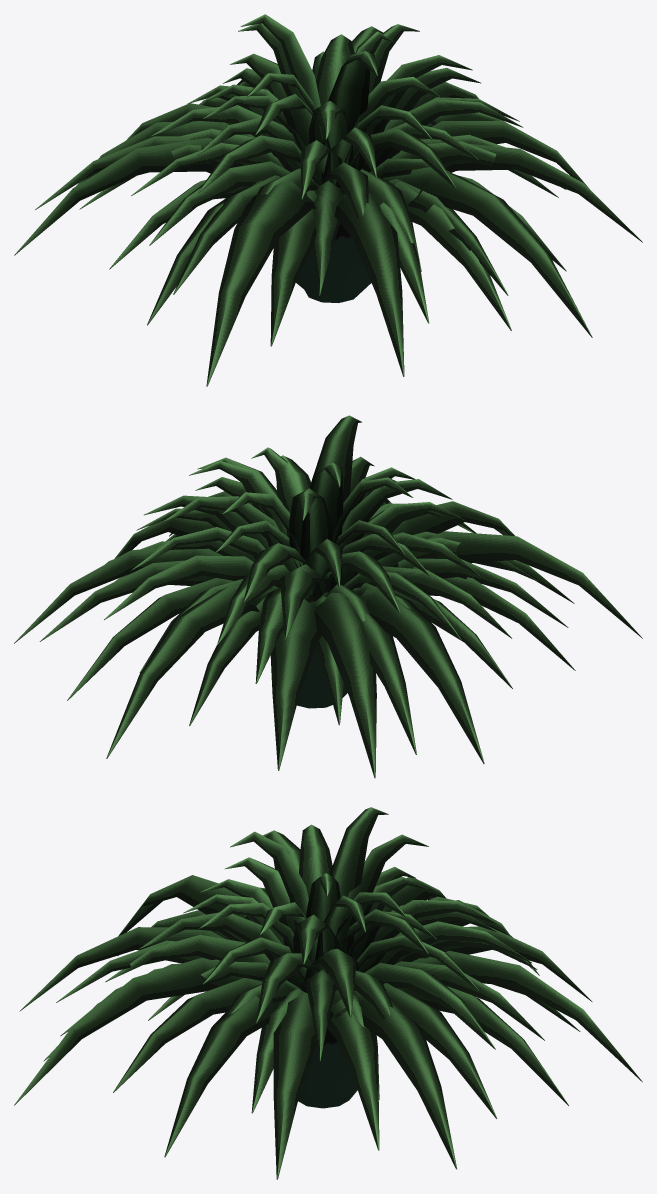
File: ZonPlant07.glb
The picture shows the model from 3 angles, top to bottom: view 1: azimuth 30°, elevation 25°; view 2: azimuth 150°, elevation 25°; view 3: azimuth 270°, elevation 25°; orthographic projection. The views are drawn at different scales.
Parts seen in each view (by area): view 1: ZonPlant07_leaves; view 2: ZonPlant07_leaves; view 3: ZonPlant07_leaves.
Part boxes in pixels (left/top/right/bottom): ZonPlant07_leaves: left=14, top=14, right=642, bottom=386; ZonPlant07_leaves: left=14, top=415, right=642, bottom=778; ZonPlant07_leaves: left=14, top=807, right=642, bottom=1179.
Bounding box in the file's own units: 2.12 × 1.13 × 2.34.
2 materials, 1 textured.
